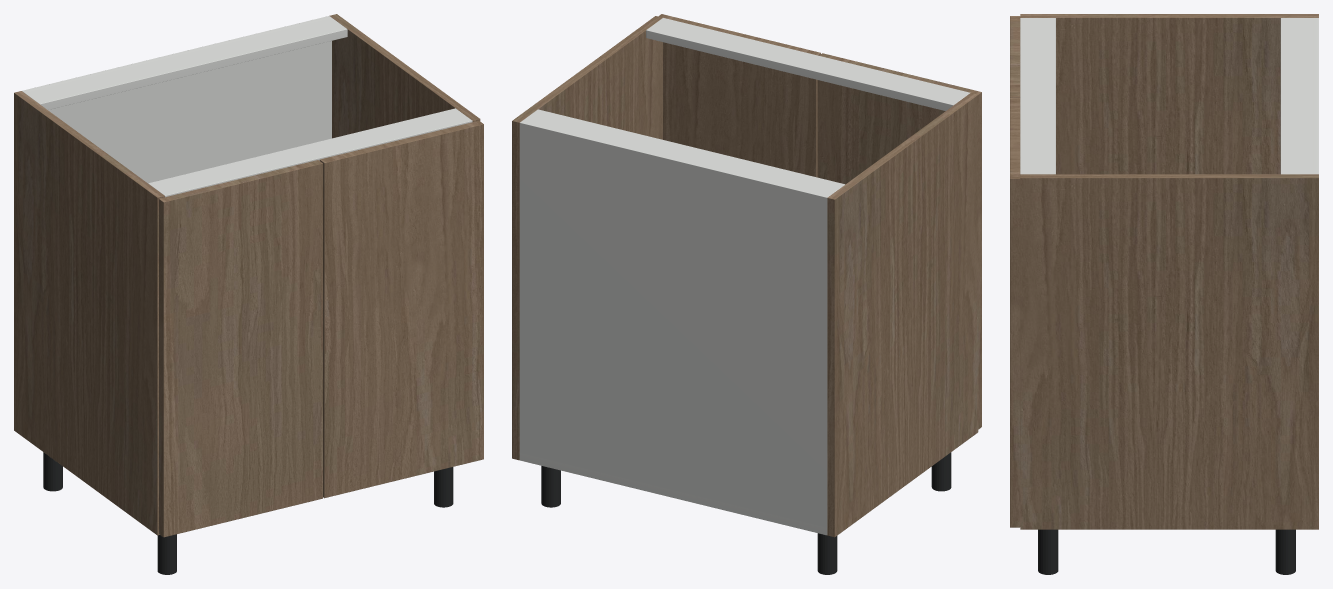
Rendered from oppein-pb-mnw-b30fh.glb.
The picture shows the model from 3 angles, left to right: view 1: azimuth 30°, elevation 25°; view 2: azimuth 150°, elevation 25°; view 3: azimuth 270°, elevation 25°; orthographic projection. The views are drawn at different scales.
Visible parts, largest first — view 1: Door, Door.001, Cabinet side, Cabinet back, Cabinet side.001, Top support rail, Top support rail.001, Adjustable foot.001, Adjustable foot.003, Adjustable foot; view 2: Cabinet back, Cabinet side, Door.001, Cabinet side.001, Door, Top support rail.001, Top support rail, Cabinet bottom, Adjustable foot, Adjustable foot.002, Adjustable foot.001; view 3: Cabinet side.001, Cabinet side, Top support rail.001, Top support rail, Door.001, Adjustable foot.003, Adjustable foot.002, Cabinet back, Door.
Boxes of the visible parts, bbox=[...] form: Door: bbox=[159, 160, 322, 537]; Door.001: bbox=[319, 120, 483, 498]; Cabinet side: bbox=[14, 91, 164, 535]; Cabinet back: bbox=[22, 16, 331, 183]; Cabinet side.001: bbox=[329, 14, 480, 138]; Top support rail: bbox=[23, 18, 347, 109]; Top support rail.001: bbox=[148, 108, 472, 197]; Adjustable foot.001: bbox=[157, 534, 176, 574]; Adjustable foot.003: bbox=[434, 467, 453, 507]; Adjustable foot: bbox=[43, 452, 62, 491]; Cabinet back: bbox=[519, 120, 829, 535]; Cabinet side: bbox=[827, 93, 978, 537]; Door.001: bbox=[658, 14, 820, 177]; Cabinet side.001: bbox=[512, 16, 662, 460]; Door: bbox=[817, 53, 981, 429]; Top support rail.001: bbox=[646, 18, 970, 110]; Top support rail: bbox=[523, 109, 844, 195]; Cabinet bottom: bbox=[520, 453, 826, 534]; Adjustable foot: bbox=[817, 533, 837, 574]; Adjustable foot.002: bbox=[541, 466, 560, 507]; Adjustable foot.001: bbox=[931, 452, 951, 491]; Cabinet side.001: bbox=[1020, 174, 1318, 529]; Cabinet side: bbox=[1020, 14, 1318, 174]; Top support rail.001: bbox=[1020, 18, 1055, 174]; Top support rail: bbox=[1280, 18, 1315, 174]; Door.001: bbox=[1010, 97, 1020, 527]; Adjustable foot.003: bbox=[1038, 529, 1058, 574]; Adjustable foot.002: bbox=[1275, 529, 1295, 574]; Cabinet back: bbox=[1313, 18, 1318, 174]; Door: bbox=[1010, 16, 1020, 97].
Size of the model in its own units: 0.762 by 0.8763 by 0.6064.
3 materials, 1 textured.
